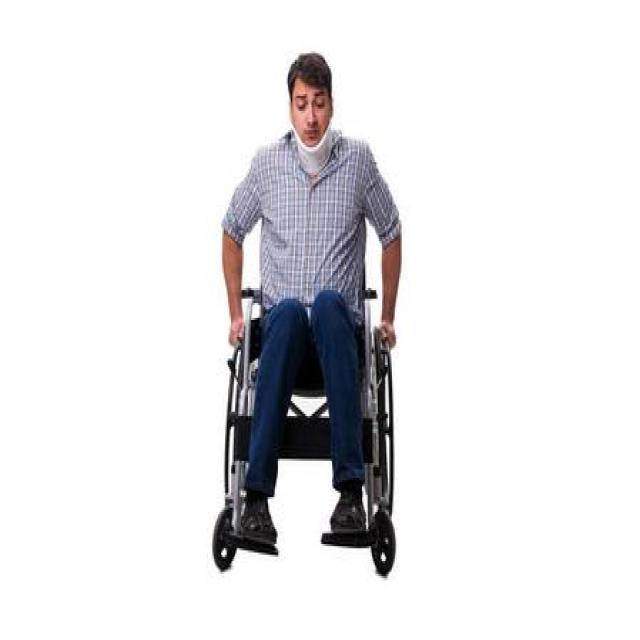wheelchairs: (204, 277, 406, 584)
